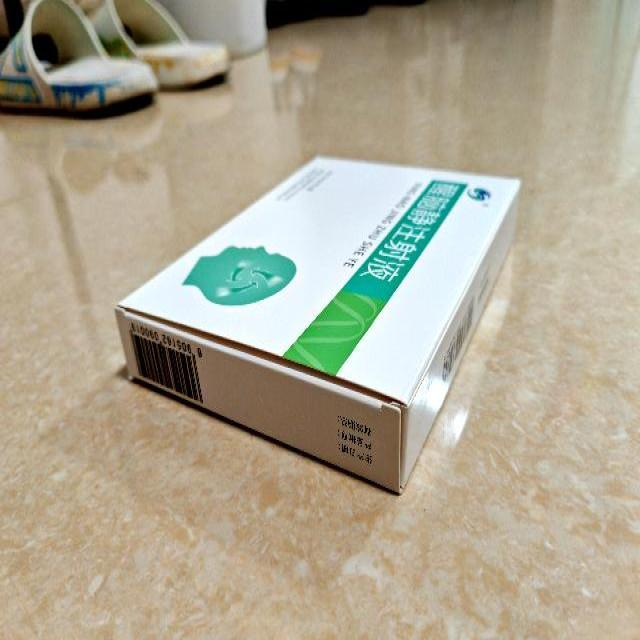box: (115, 153, 522, 494)
